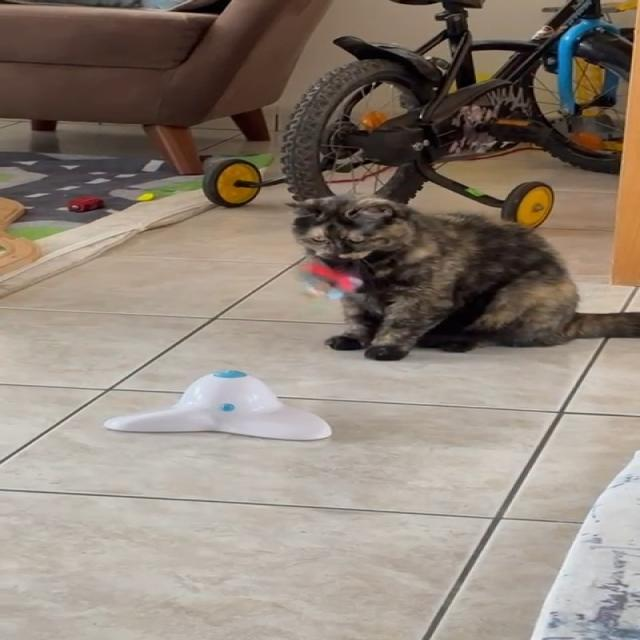authorized: (284, 192, 639, 360)
